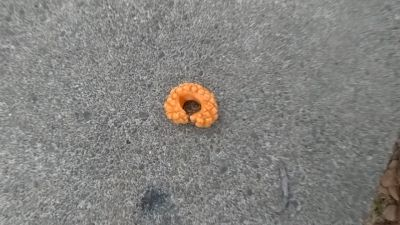eggs: (162, 79, 221, 129)
